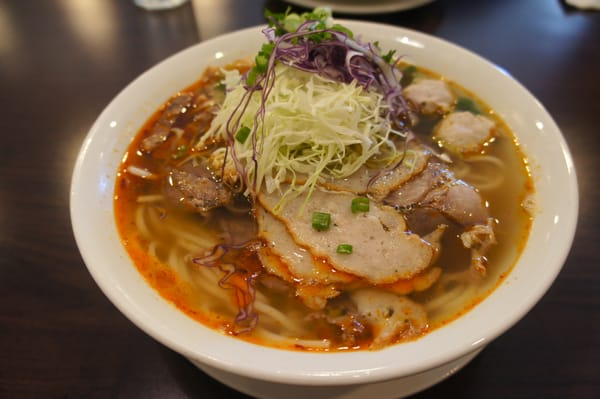sushi: (68, 14, 587, 388)
